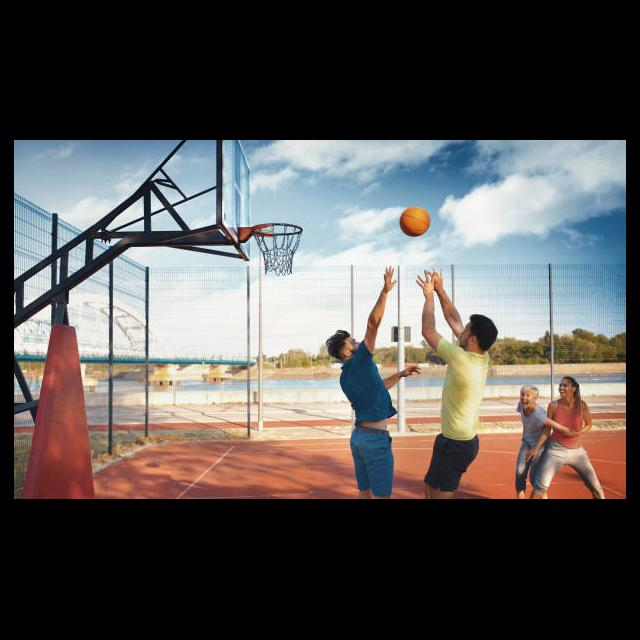basketball: (400, 206, 429, 237)
hoop: (253, 226, 303, 275)
